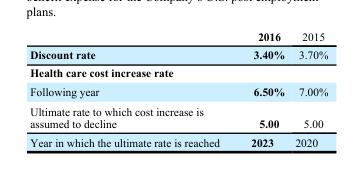table: (29, 29, 327, 148)
table column: (29, 29, 234, 148), (234, 29, 289, 148), (289, 29, 327, 148)
table column header: (29, 29, 327, 45)
table projected row header: (29, 63, 327, 81)
table row: (29, 101, 327, 132), (29, 81, 327, 101), (29, 45, 327, 63), (29, 63, 327, 81), (29, 29, 327, 45), (29, 132, 327, 148)
